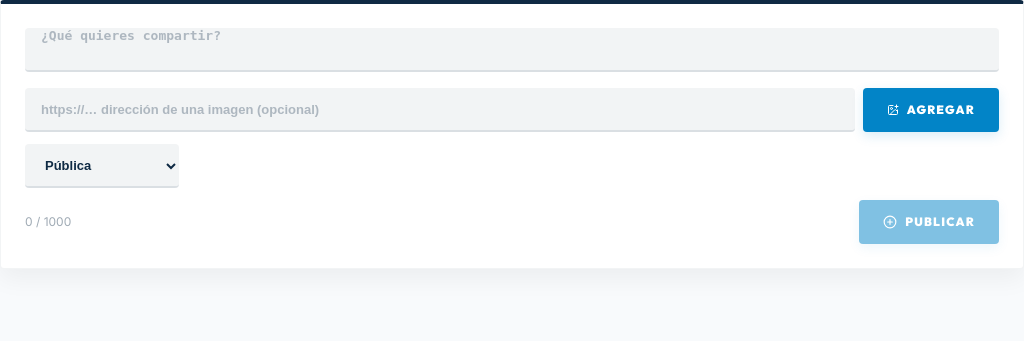
Test case: PostComposer › imágenes: solo https, sin repetidas, con vista previa y botón para quitarlas
Type "http://cdn.example/a.png" into the field with test id "composer-image-input" at (440, 110), box [25,88,855,132]
Click the button with test id "composer-image-add" at (931, 110), box [863,88,999,132]
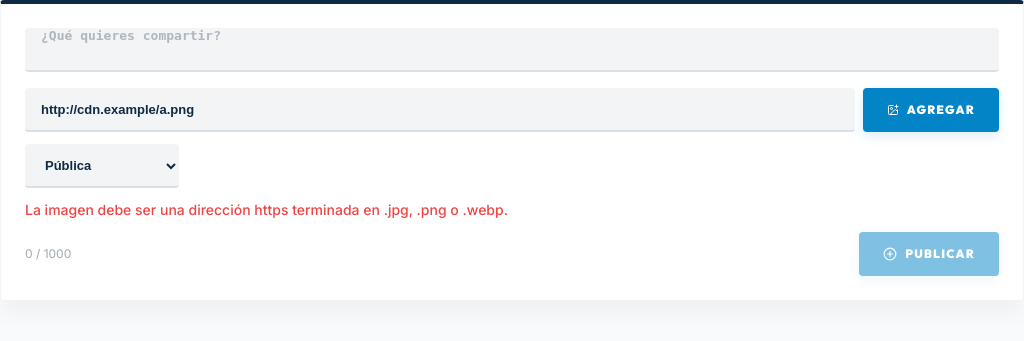
Expected: the message with test id "composer-error" shows "https", [25,201,508,218]
Replace the text in the field with test id "composer-image-input" with " https://cdn.example/a.png " at (440, 110), box [25,88,855,132]
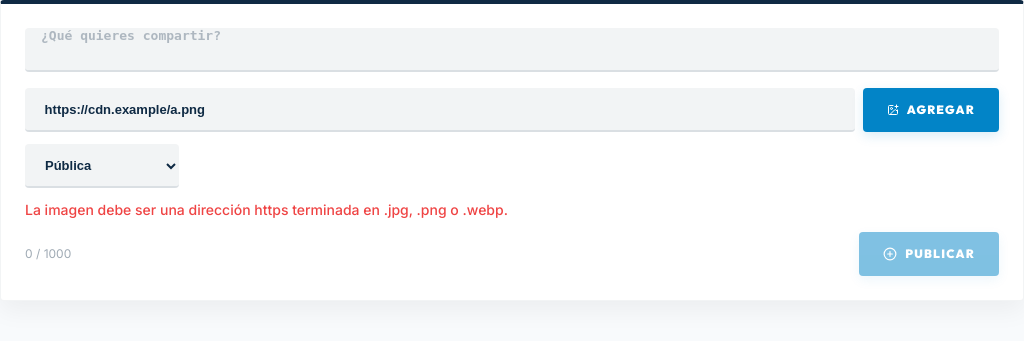
Click the button with test id "composer-image-add" at (931, 110), box [863,88,999,132]
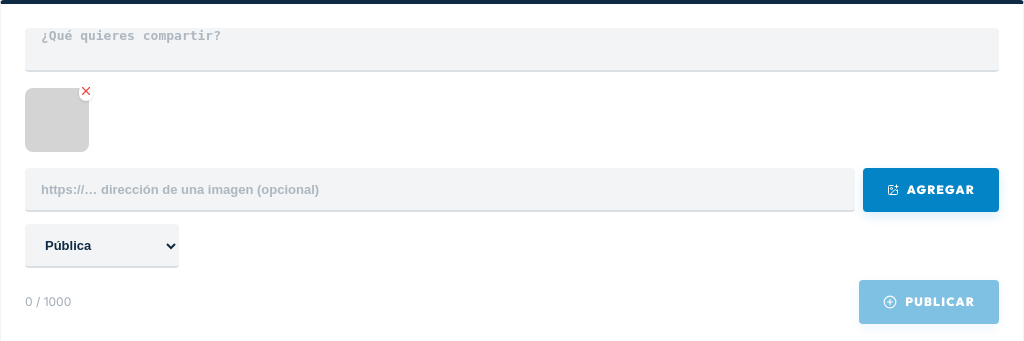
Type "https://cdn.example/a.png" into the field with test id "composer-image-input" at (440, 190), box [25,168,855,212]
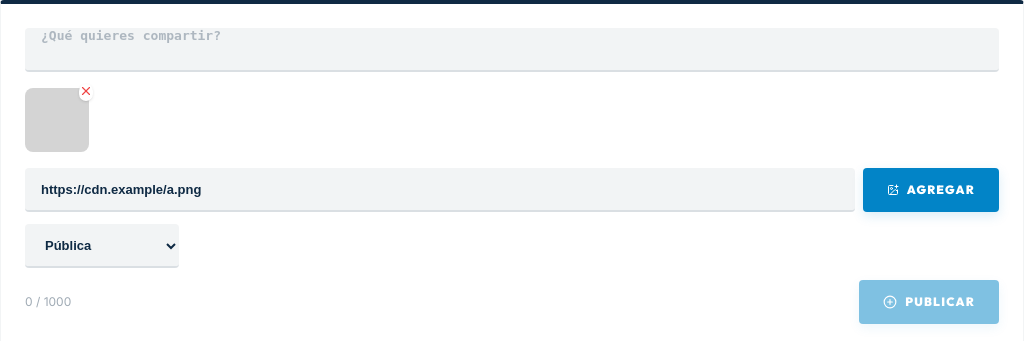
Click the button with test id "composer-image-add" at (931, 190), box [863,168,999,212]
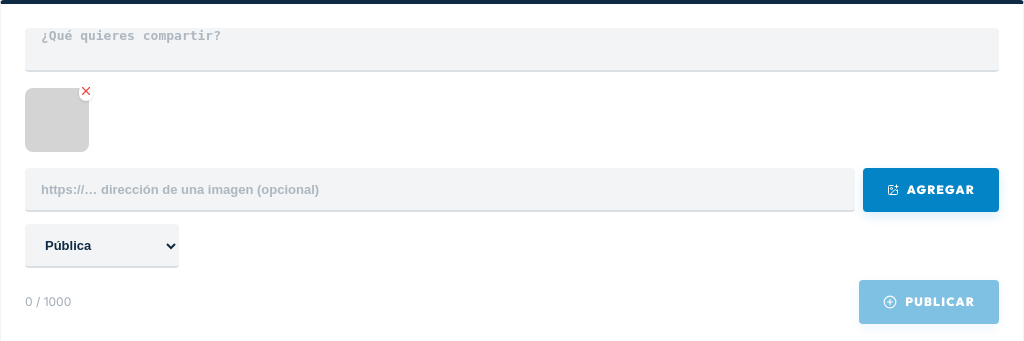
Expected: the field with test id "composer-image-input" is empty, [25,168,855,212]
Click the button with test id "composer-image-remove-0" at (86, 92), box [79,84,93,101]
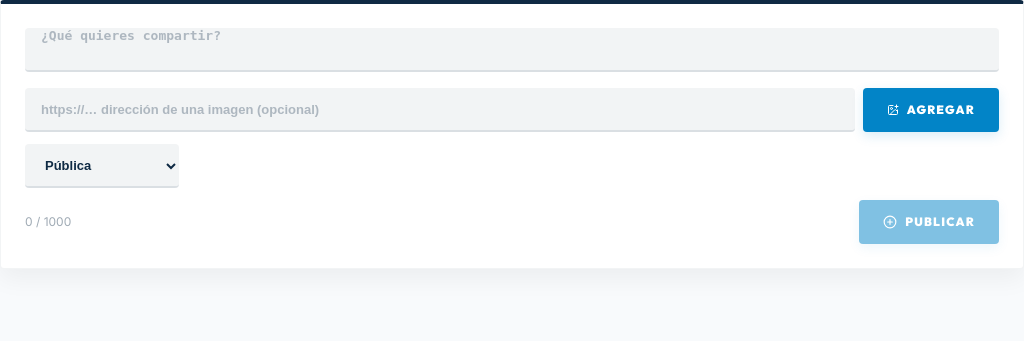
Expected: the list with test id "composer-images" is gone
